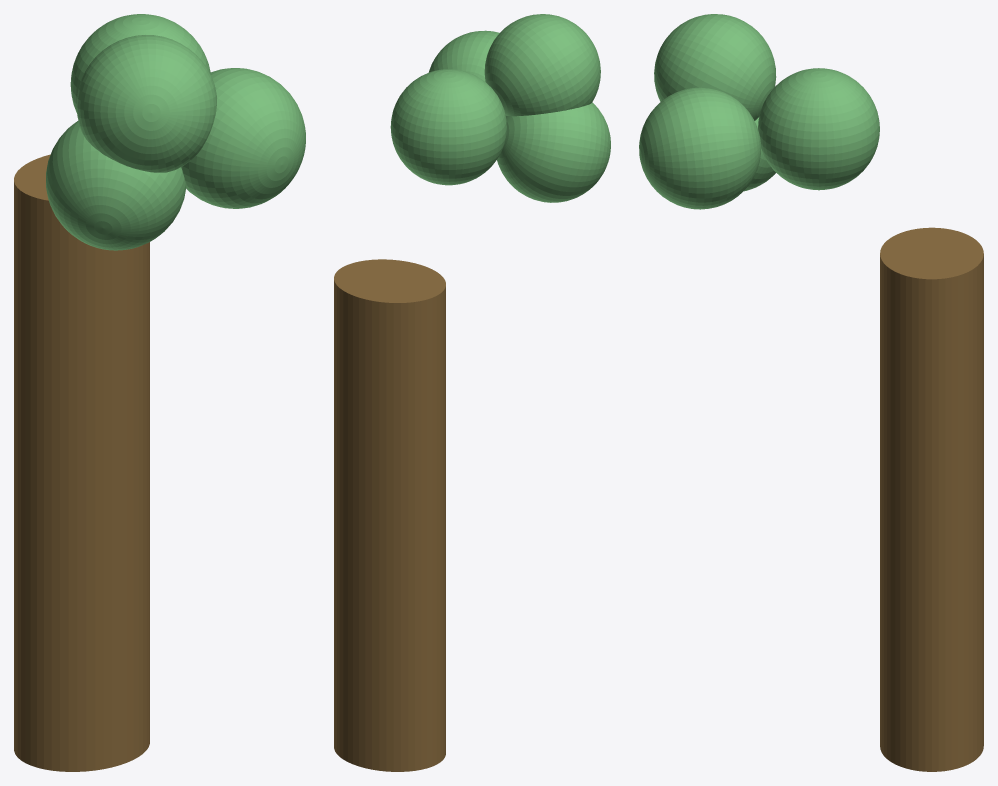
File: Neat Amberis-Rottis (1).glb
3 views of the same model, side by side, from view 1: azimuth 30°, elevation 25°; view 2: azimuth 150°, elevation 25°; view 3: azimuth 270°, elevation 25° (orthographic). The views are drawn at different scales.
Parts seen in each view (by area): view 1: Mesh_Mesh_head_geo.001_lambert2SG.001; view 2: Mesh_Mesh_head_geo.001_lambert2SG.001; view 3: Mesh_Mesh_head_geo.001_lambert2SG.001.
Part boxes in pixels (box(x1,y1,x2,y2)): Mesh_Mesh_head_geo.001_lambert2SG.001: box(14, 14, 305, 771); Mesh_Mesh_head_geo.001_lambert2SG.001: box(334, 14, 610, 771); Mesh_Mesh_head_geo.001_lambert2SG.001: box(639, 14, 983, 771).
Size of the model in its own units: 0.0365 by 0.1266 by 0.0564.
